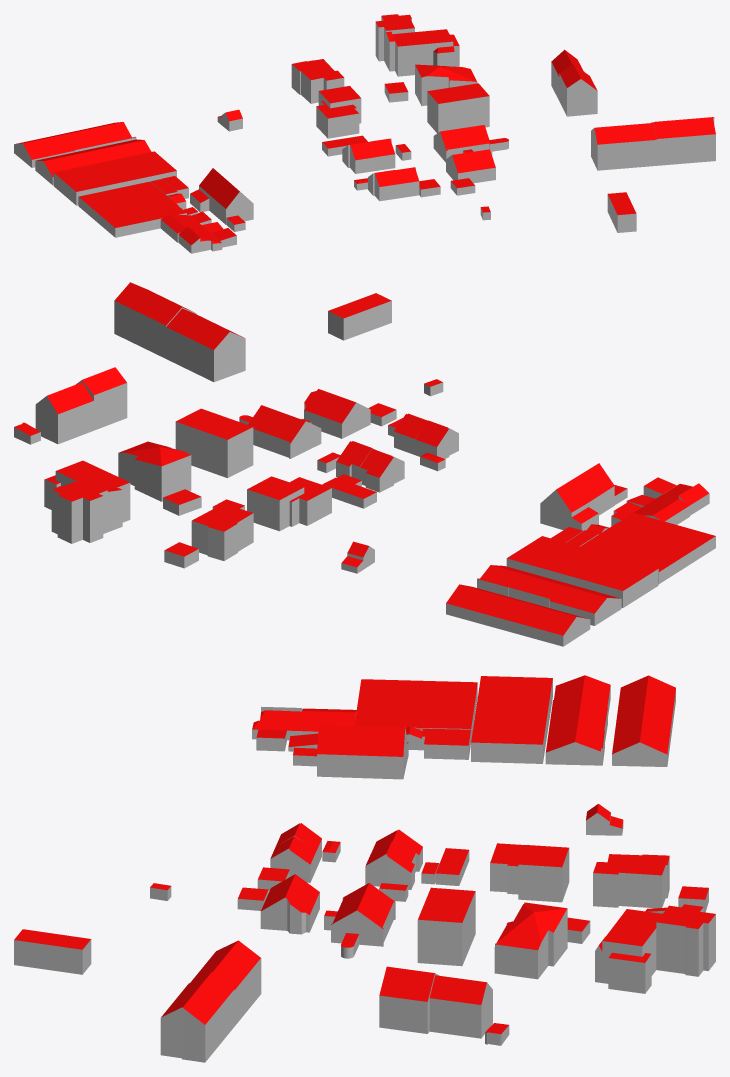
3 renders of one model, top to bottom at view 1: azimuth 30°, elevation 25°; view 2: azimuth 150°, elevation 25°; view 3: azimuth 270°, elevation 25°, orthographic. The views are drawn at different scales.
Bounding box in the file's own units: 194 × 12.67 × 156.
